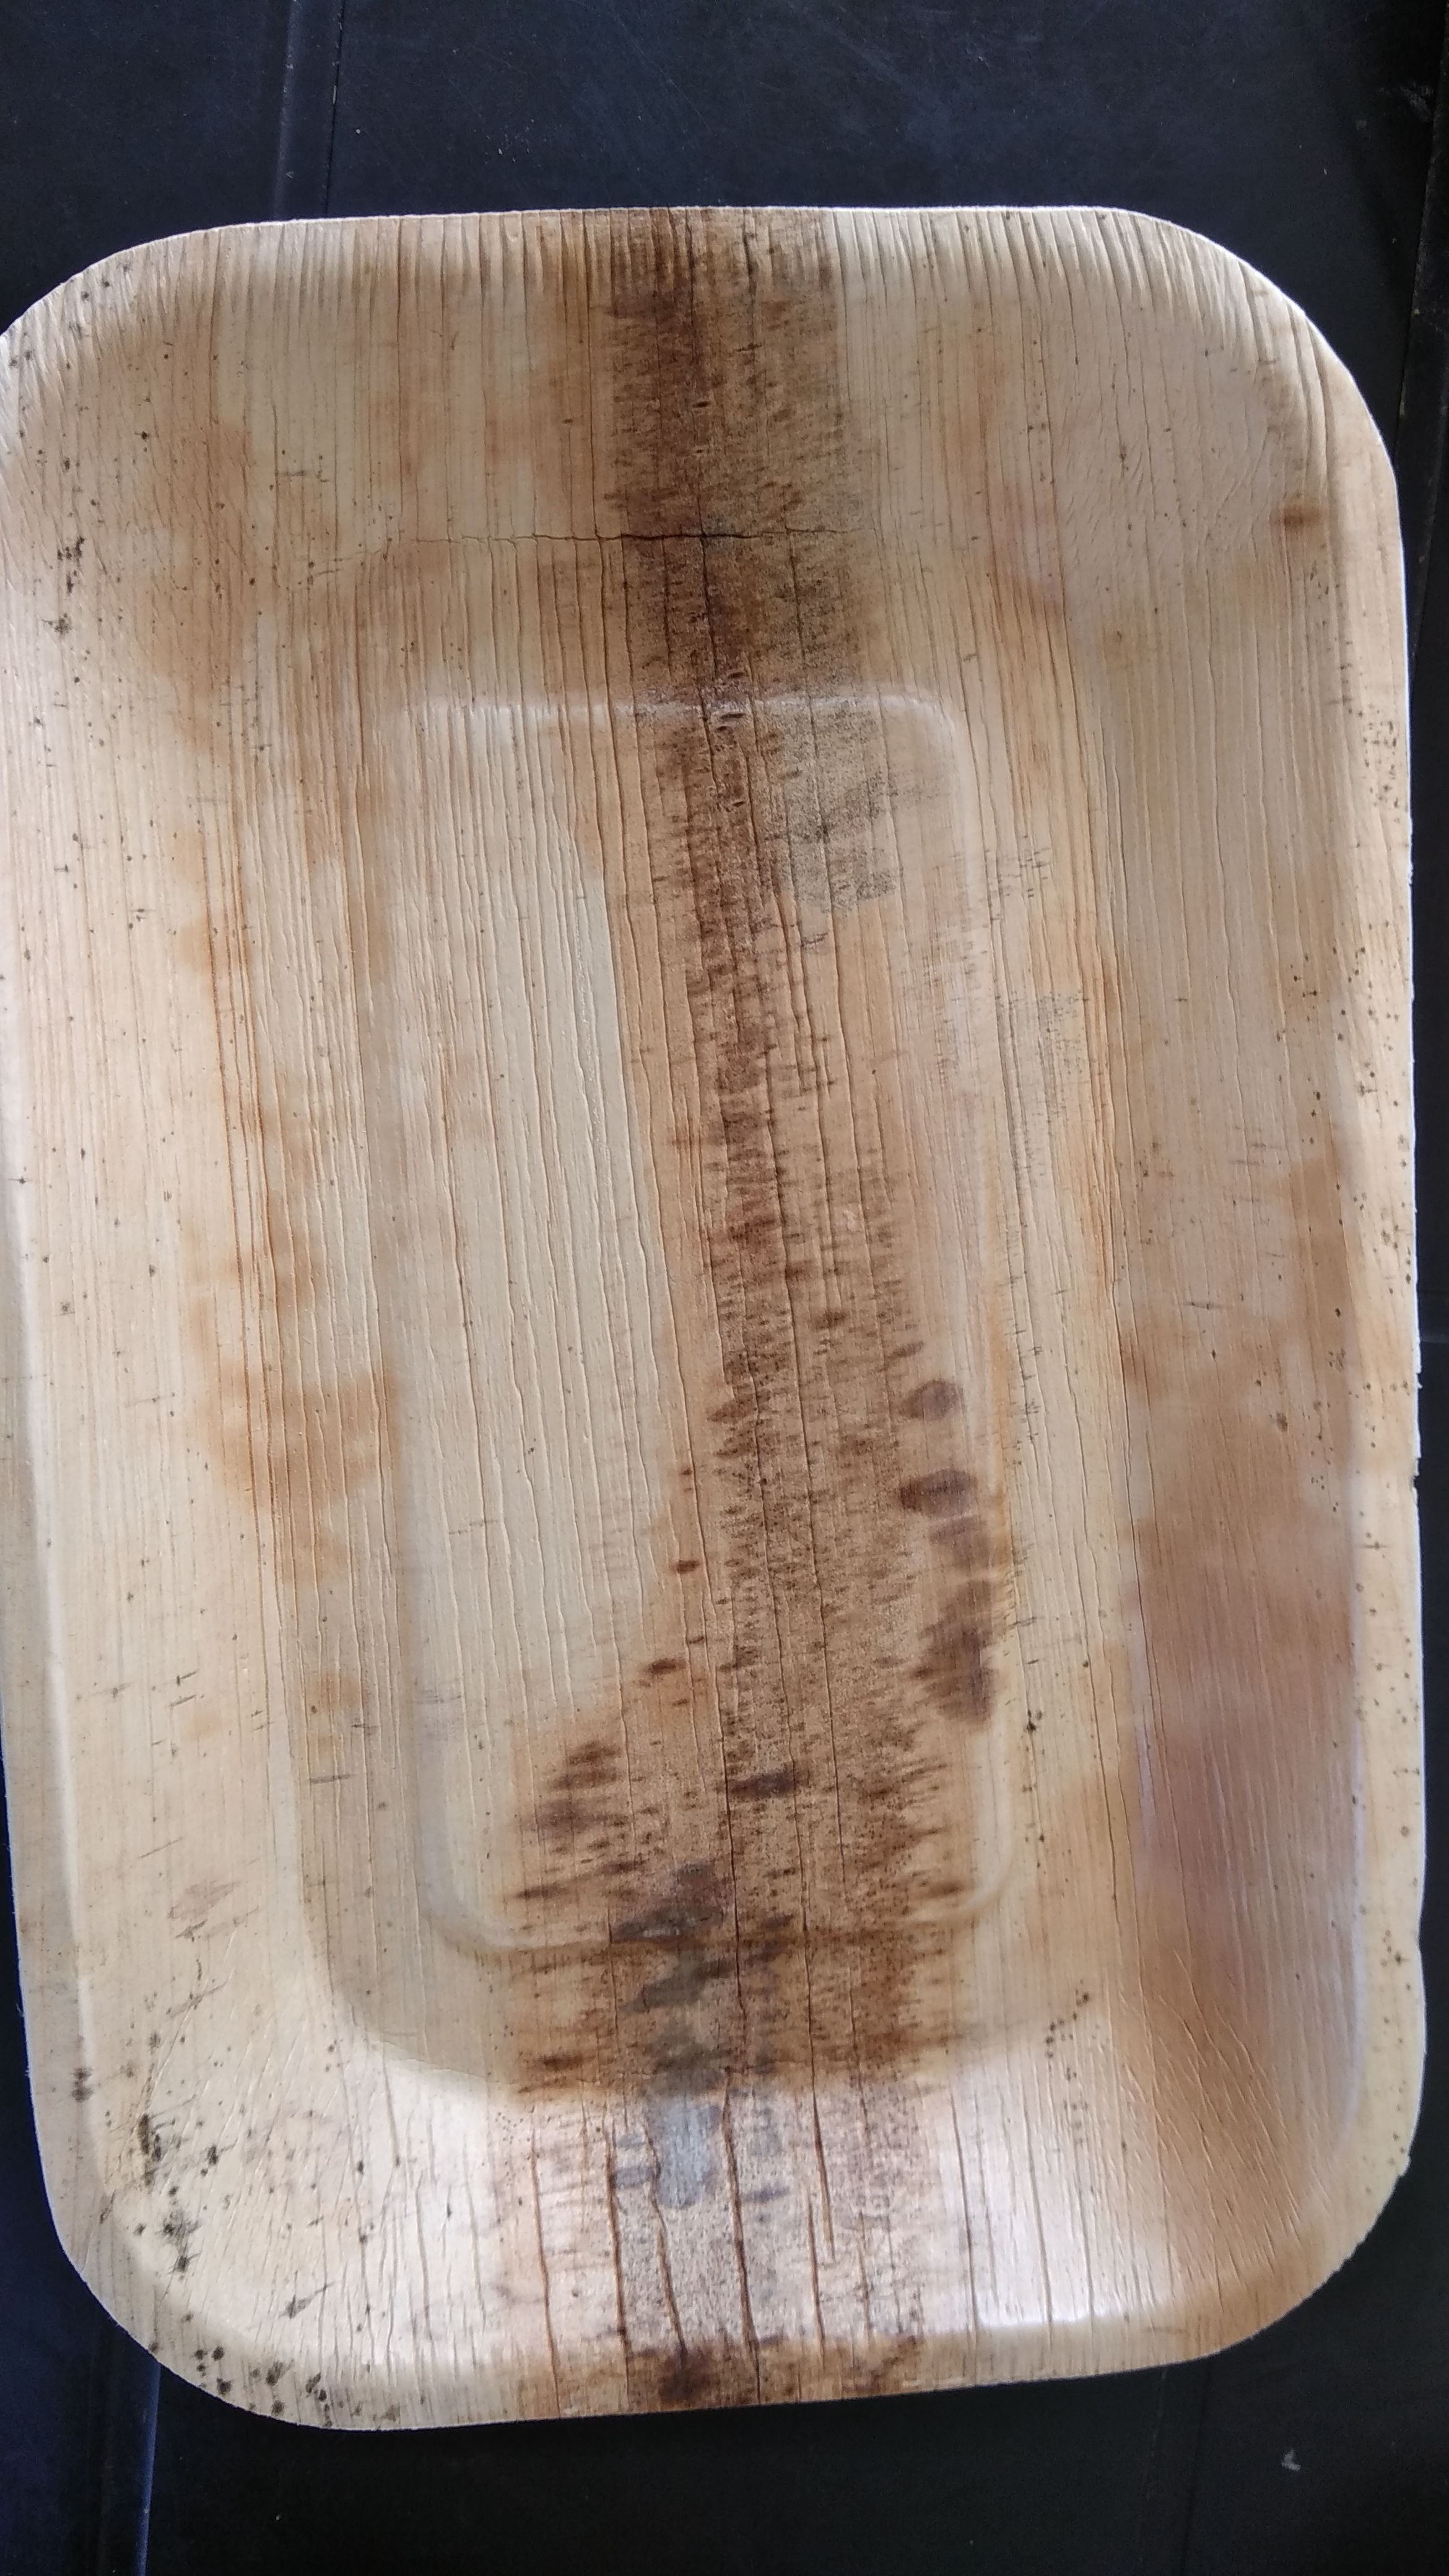plates: (34, 239, 1408, 2353)
